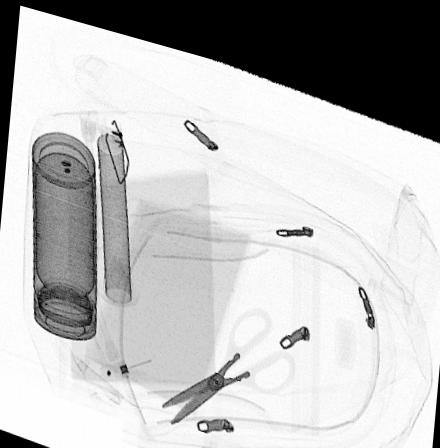Scissors: (155, 288, 298, 419)
